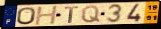3: (106, 3, 123, 25)
4: (126, 3, 143, 24)
H: (34, 5, 59, 26)
O: (17, 6, 38, 25)
Q: (81, 5, 101, 24)
T: (64, 6, 80, 24)
